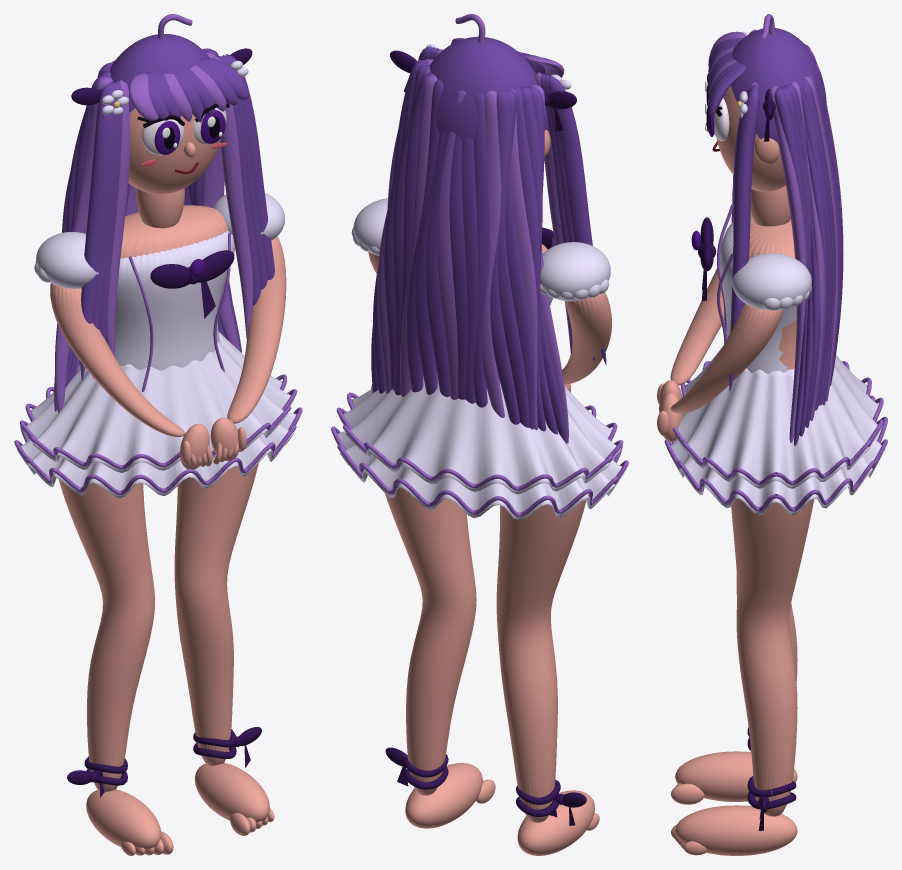
File: lavender-character.obj
The picture shows the model from 3 angles, left to right: view 1: azimuth 30°, elevation 25°; view 2: azimuth 150°, elevation 25°; view 3: azimuth 270°, elevation 25°; orthographic projection. The views are drawn at different scales.
Visible parts, largest first — view 1: Main_pleated_skirt, R_leg, L_leg, Corseted_ivory_bodice, Arm, Underskirt_ruffle, Arm.001, Head, Face_framing_lock.003, Torso, Face_framing_lock.004, R_foot (+27 smaller); view 2: Main_pleated_skirt, R_leg, L_leg, Hair_crown, Underskirt_ruffle, Back_hair_lock_16, Back_hair_lock_15, Back_hair_lock_17, Back_hair_lock_12, Back_hair_lock_13, Back_hair_lock_14, L_foot (+27 smaller); view 3: L_leg, Main_pleated_skirt, Hair_crown, L_foot, Underskirt_ruffle, Arm.001, Face_framing_lock.007, Puffed_off_shoulder_sleeve.001, R_foot, Back_hair_lock_00, Arm, Back_hair_lock_01 (+20 smaller).
Part boxes in pixels (box(x1,y1,x2,y2)): Main_pleated_skirt: box(22, 331, 294, 472); R_leg: box(58, 479, 154, 791); L_leg: box(174, 463, 258, 765); Corseted_ivory_bodice: box(115, 230, 235, 370); Arm: box(50, 283, 185, 436); Underskirt_ruffle: box(16, 411, 299, 498); Arm.001: box(227, 236, 286, 423); Head: box(128, 108, 221, 194); Face_framing_lock.003: box(80, 82, 114, 380); Torso: box(120, 205, 228, 258); Face_framing_lock.004: box(214, 57, 253, 338); R_foot: box(86, 789, 161, 850); Main_pleated_skirt: box(339, 374, 620, 494); R_leg: box(496, 499, 585, 822); L_leg: box(385, 487, 476, 795); Hair_crown: box(429, 36, 548, 140); Underskirt_ruffle: box(334, 431, 626, 520); Back_hair_lock_16: box(482, 90, 504, 417); Back_hair_lock_15: box(473, 93, 490, 407); Back_hair_lock_17: box(490, 90, 519, 424); Back_hair_lock_12: box(437, 90, 465, 399); Back_hair_lock_13: box(449, 92, 467, 399); Back_hair_lock_14: box(461, 95, 478, 403); L_foot: box(405, 763, 482, 828); L_leg: box(731, 498, 814, 816); Main_pleated_skirt: box(674, 347, 881, 488); Hair_crown: box(731, 28, 826, 144); L_foot: box(675, 805, 797, 855); Underskirt_ruffle: box(667, 420, 885, 515); Arm.001: box(670, 303, 782, 413); Face_framing_lock.007: box(729, 87, 759, 392); Puffed_off_shoulder_sleeve.001: box(732, 253, 811, 310); R_foot: box(675, 751, 797, 801); Back_hair_lock_00: box(769, 85, 806, 442); Arm: box(670, 268, 724, 385); Back_hair_lock_01: box(774, 87, 809, 445).
Bounding box in the file's own units: 0.5875 × 1.69 × 0.4338.
